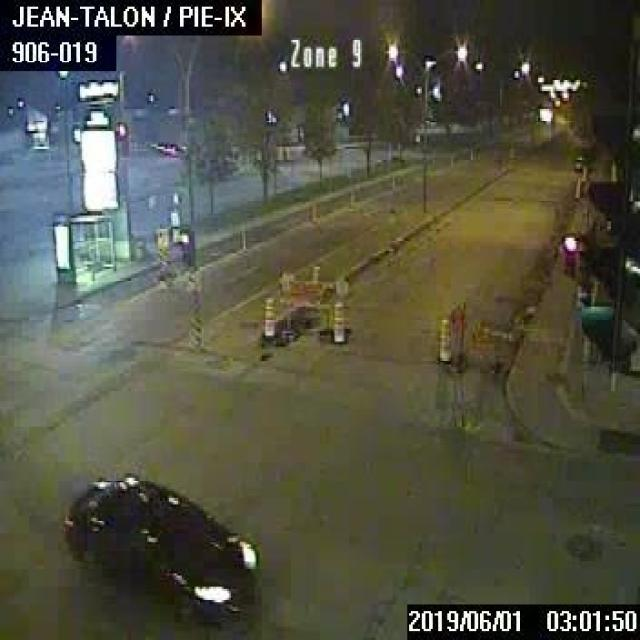construction: (275, 262, 348, 344), (446, 297, 517, 371), (329, 297, 345, 343), (435, 314, 451, 359), (260, 296, 274, 342)
vehicle: (60, 469, 264, 624), (569, 153, 591, 171)
